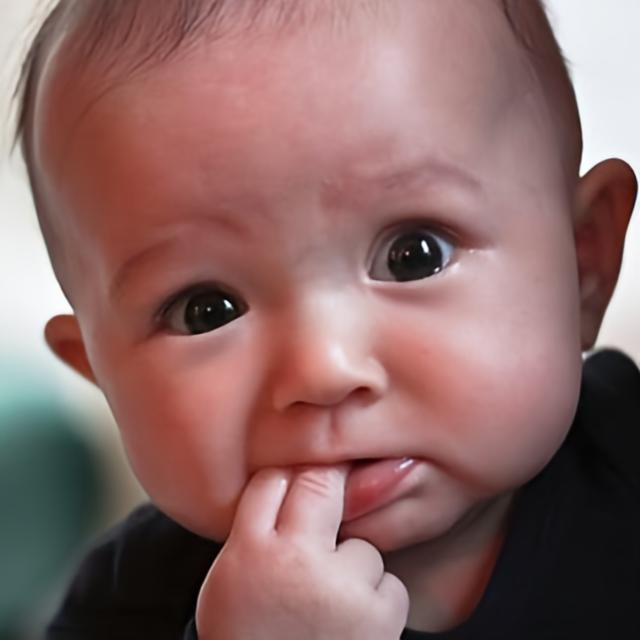fear: (28, 0, 597, 555)
